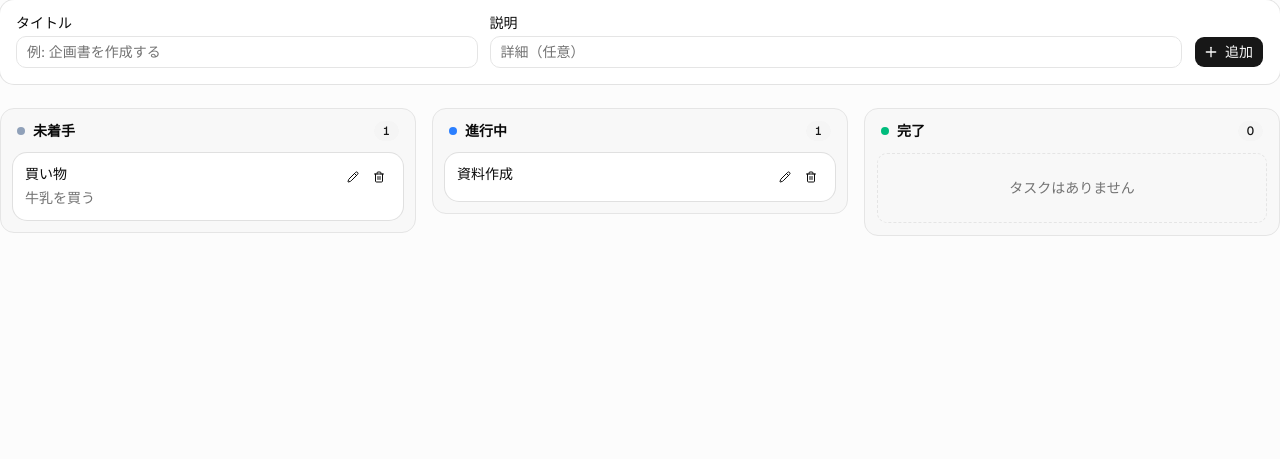
Test: 編集 › 編集中にキャンセルすると表示に戻り内容は変わらない
The image size is (1280, 459).
Click the button named "編集" in the row of "買い物": [353, 177] box [341, 165, 365, 189]
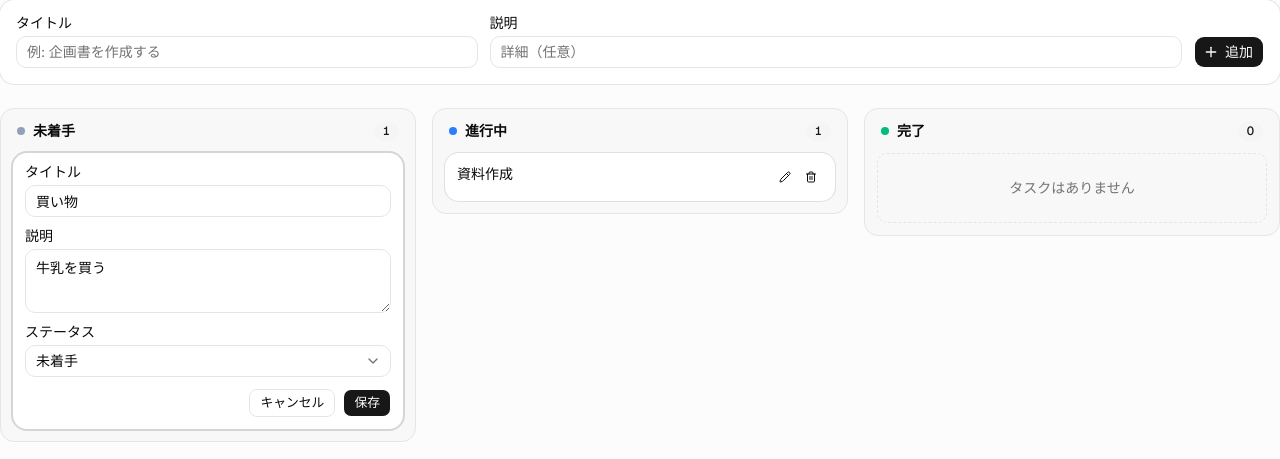
Replace the text in the field labelled "タイトル" below "未着手" with "買い出し": [208, 201] box [25, 185, 391, 217]
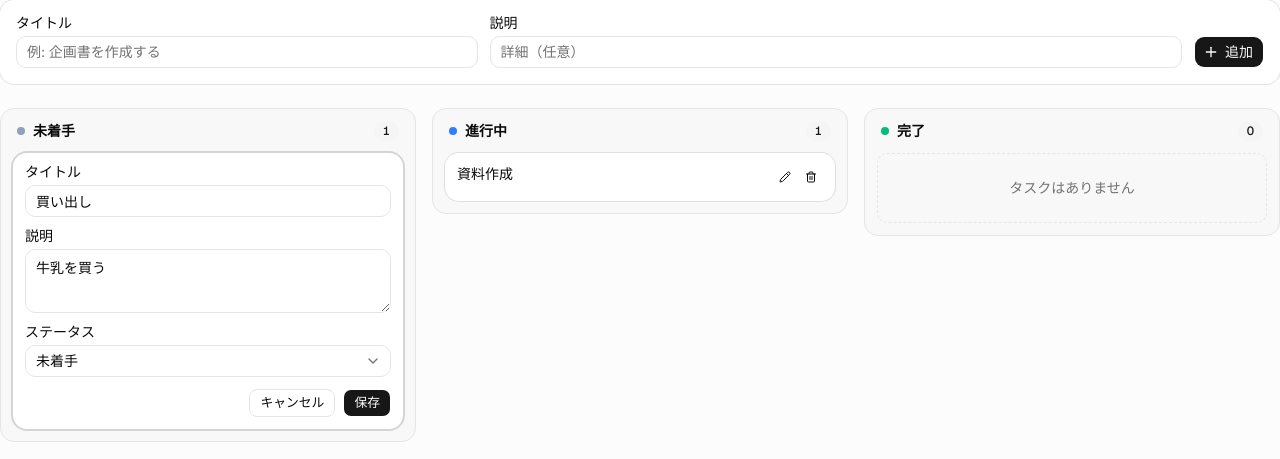
Click the button "キャンセル": [292, 403] box [249, 389, 335, 417]
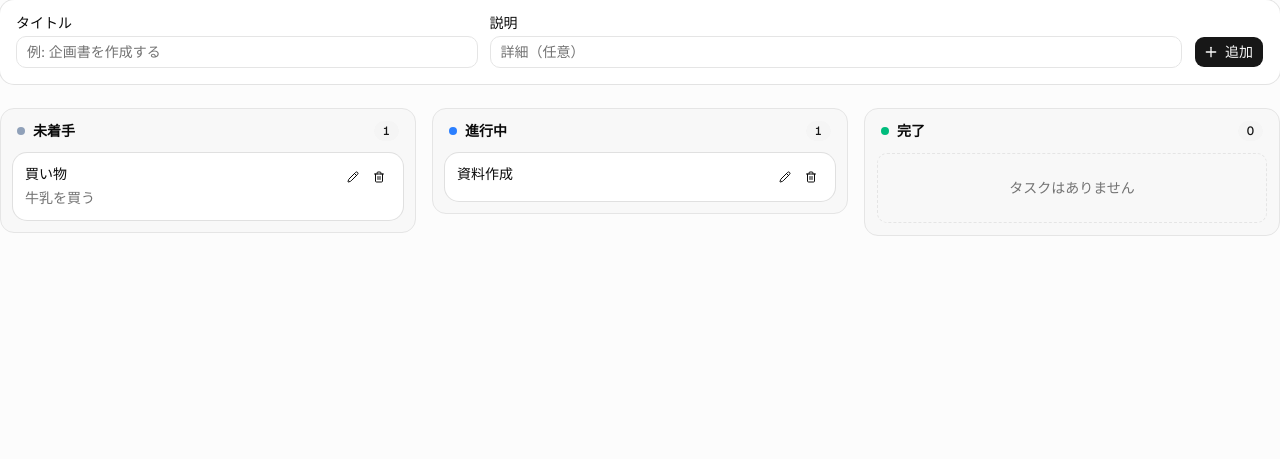
Check: the element "買い物" is shown, box [13, 153, 403, 220]
Check: the form "タスクを編集" is gone
